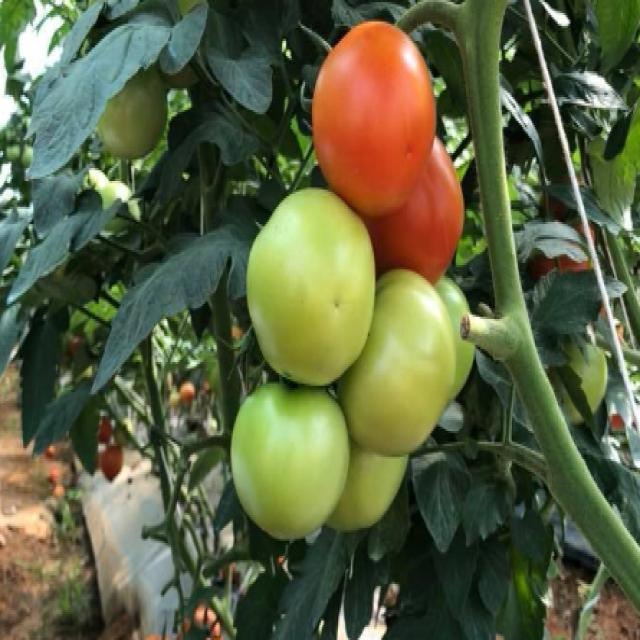kirmizi: (298, 4, 460, 216)
yesil: (184, 182, 452, 556)
